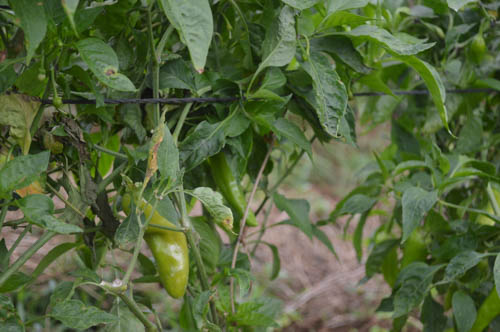ChiliPepper: (123, 195, 191, 305), (209, 148, 260, 228)
